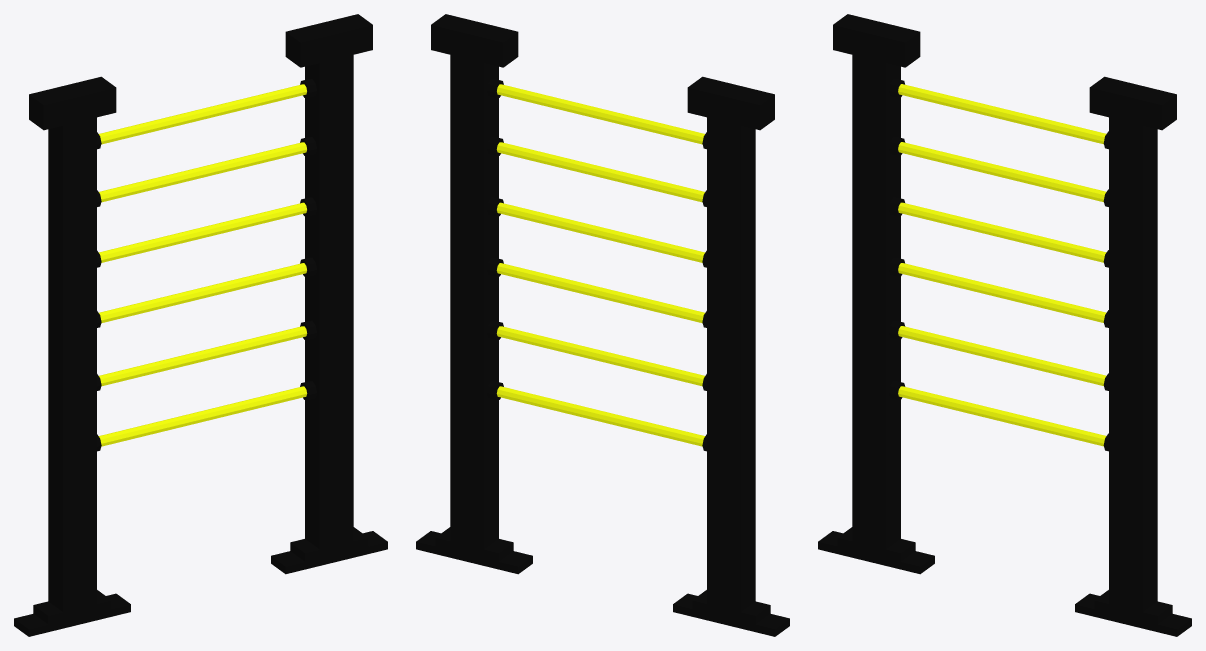
Rendered from LaserBarriere 2.glb.
3 renders of one model, left to right at view 1: azimuth 30°, elevation 25°; view 2: azimuth 150°, elevation 25°; view 3: azimuth 330°, elevation 25°, orthographic.
Visible parts, largest first — view 1: Scifi_SmallLaser_Barrier_Scifi_Tunnel_Texture_0.001; view 2: Scifi_SmallLaser_Barrier_Scifi_Tunnel_Texture_0.001; view 3: Scifi_SmallLaser_Barrier_Scifi_Tunnel_Texture_0.001.
Boxes of the visible parts, box(x1,y1,x2,y2) form: Scifi_SmallLaser_Barrier_Scifi_Tunnel_Texture_0.001: box(14, 14, 387, 636); Scifi_SmallLaser_Barrier_Scifi_Tunnel_Texture_0.001: box(416, 14, 789, 636); Scifi_SmallLaser_Barrier_Scifi_Tunnel_Texture_0.001: box(818, 14, 1191, 636).
Size of the model in its own units: 1.93 by 2.71 by 0.1376.
Materials: 1 (1 with a texture image).
